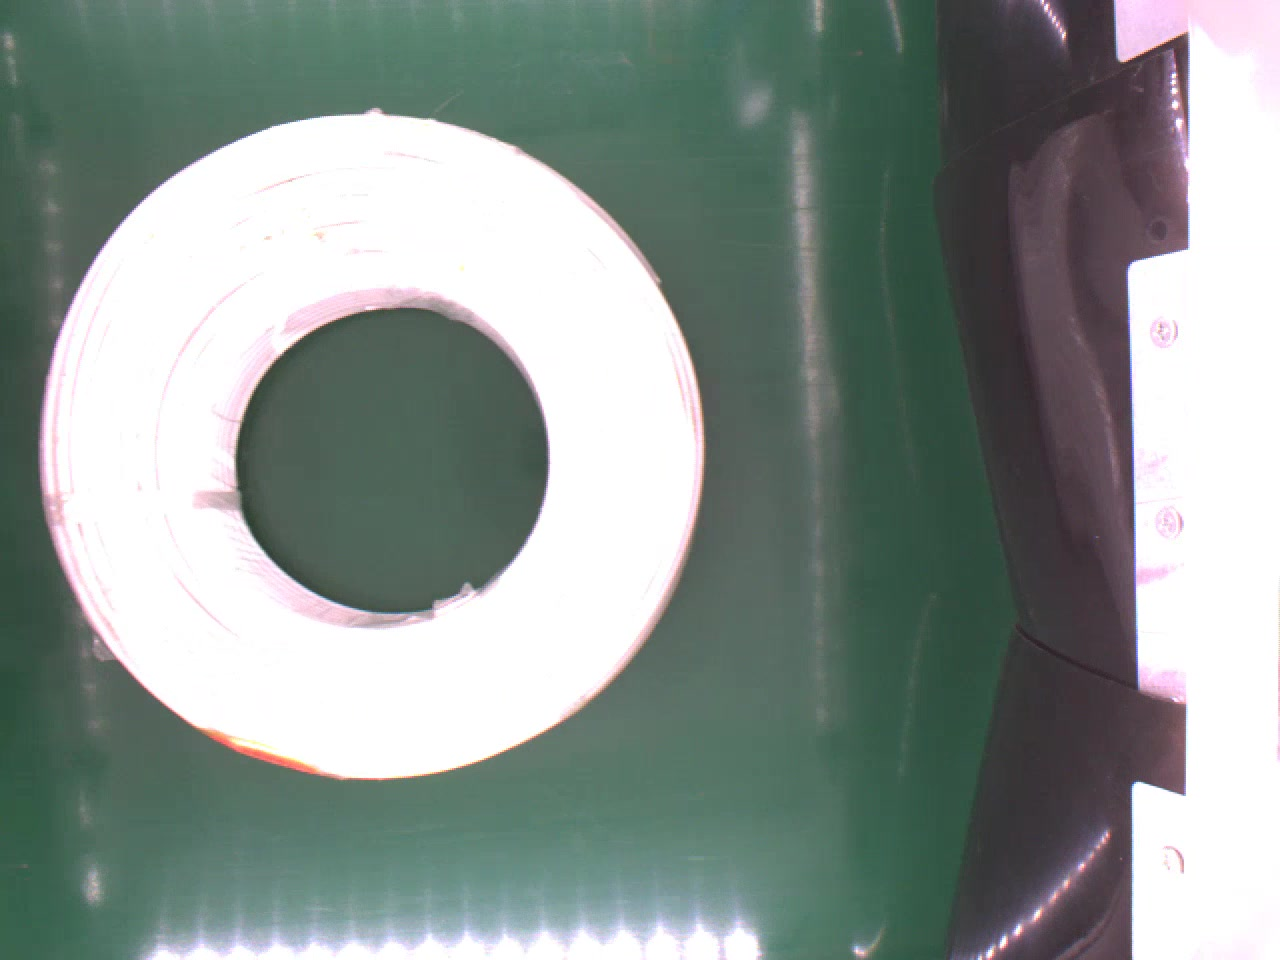white: (38, 108, 703, 793)
